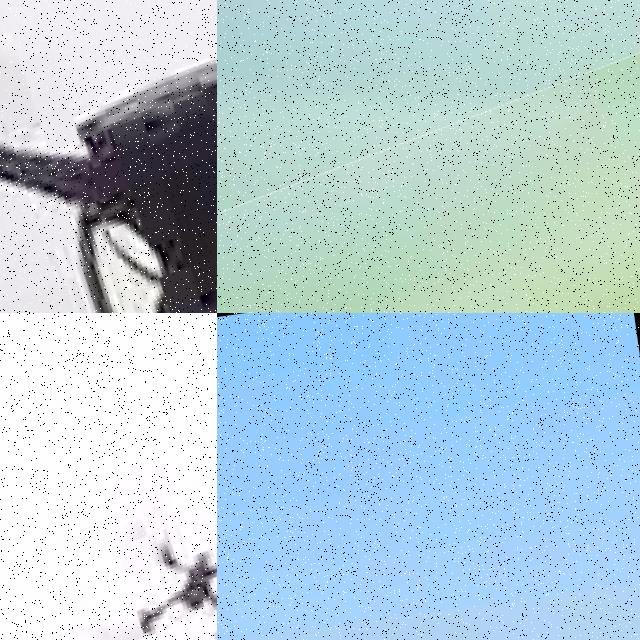0: (0, 0, 217, 313), (51, 451, 217, 640)
drone: (217, 54, 640, 313)
